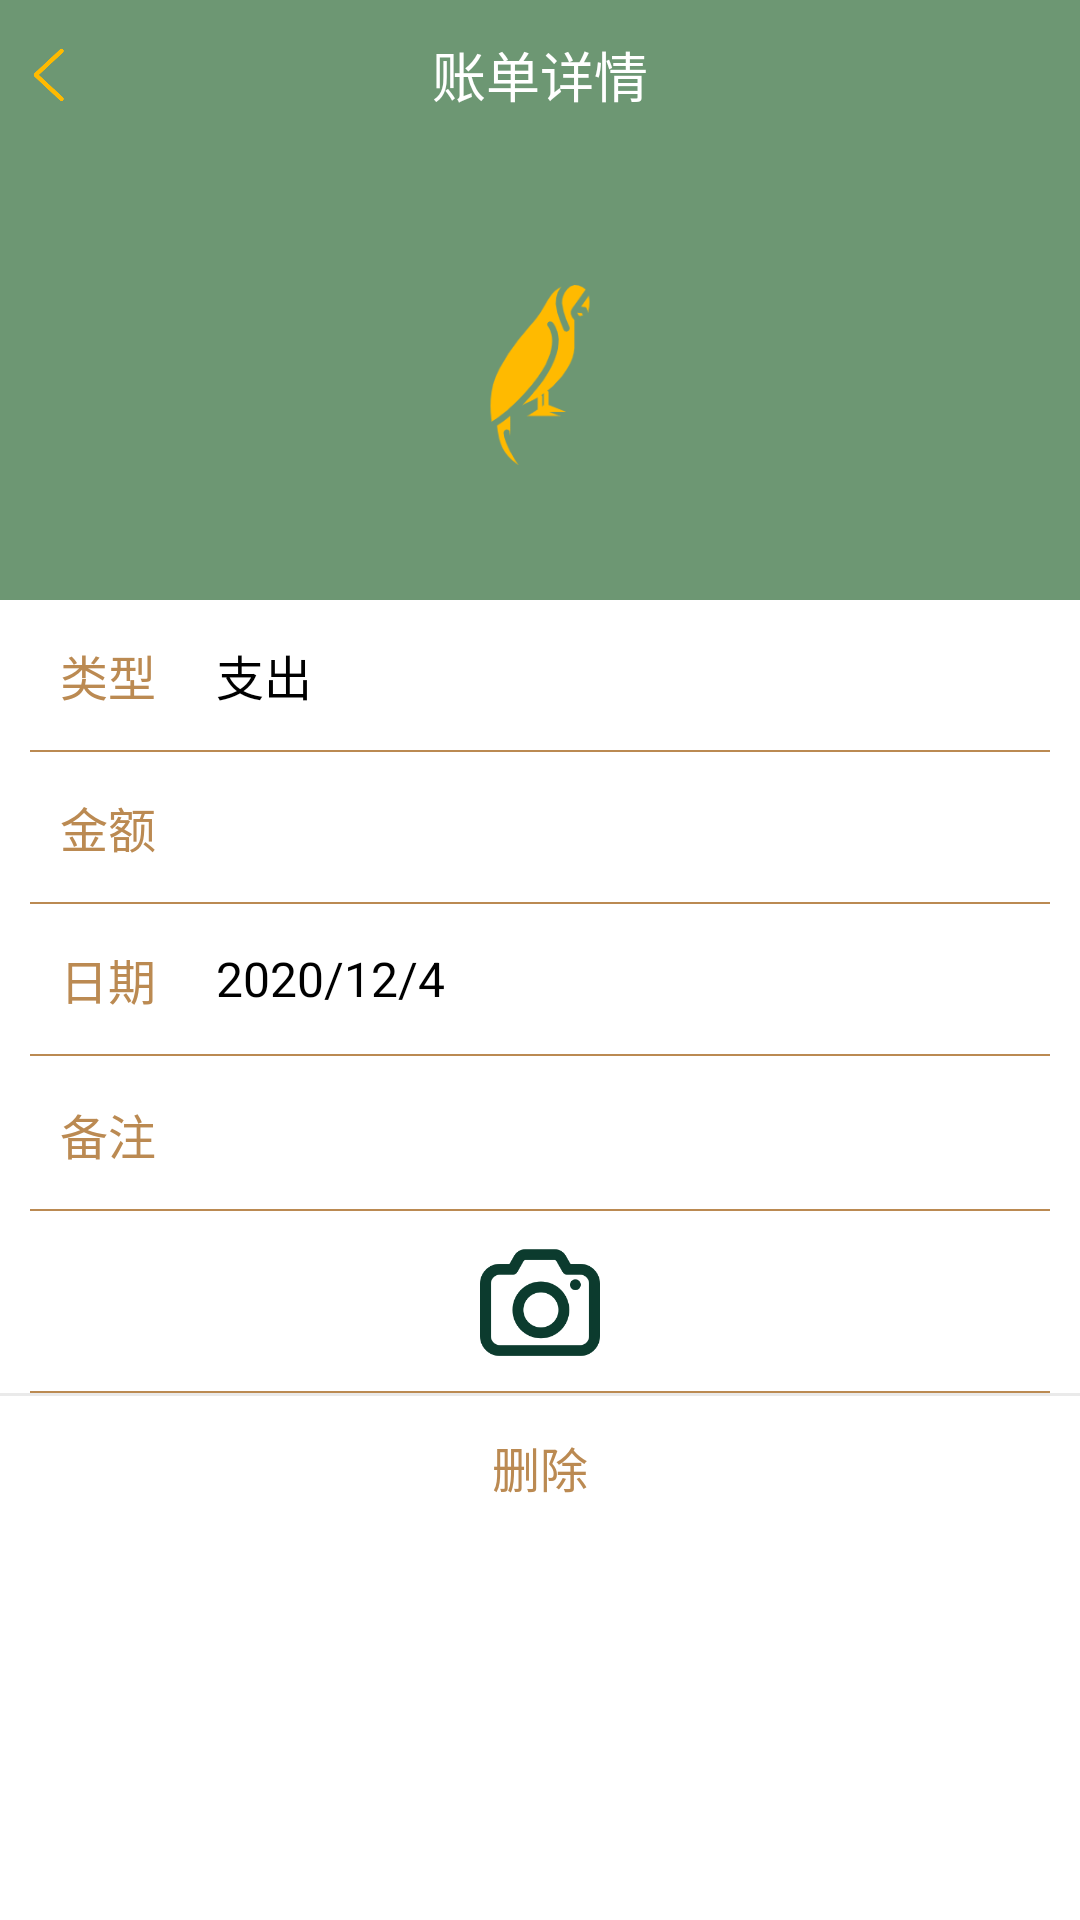

Icons on this 1080px×1920px Android screen, each with the point to tap as [x,y]:
back: [49,75]
photo: [540,1302]
